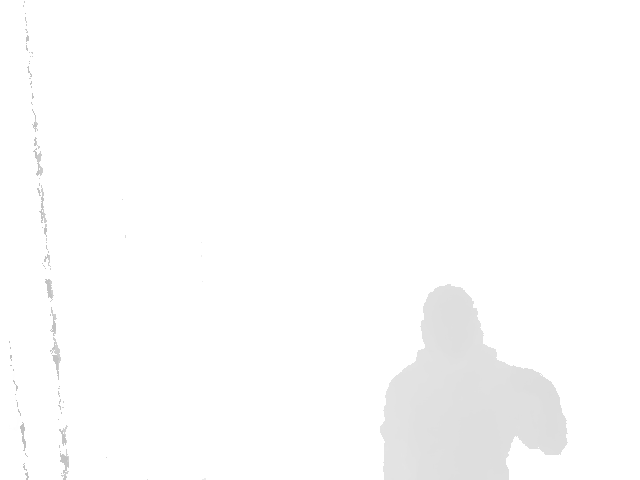head: (421, 285, 484, 369)
person: (379, 285, 568, 480)
